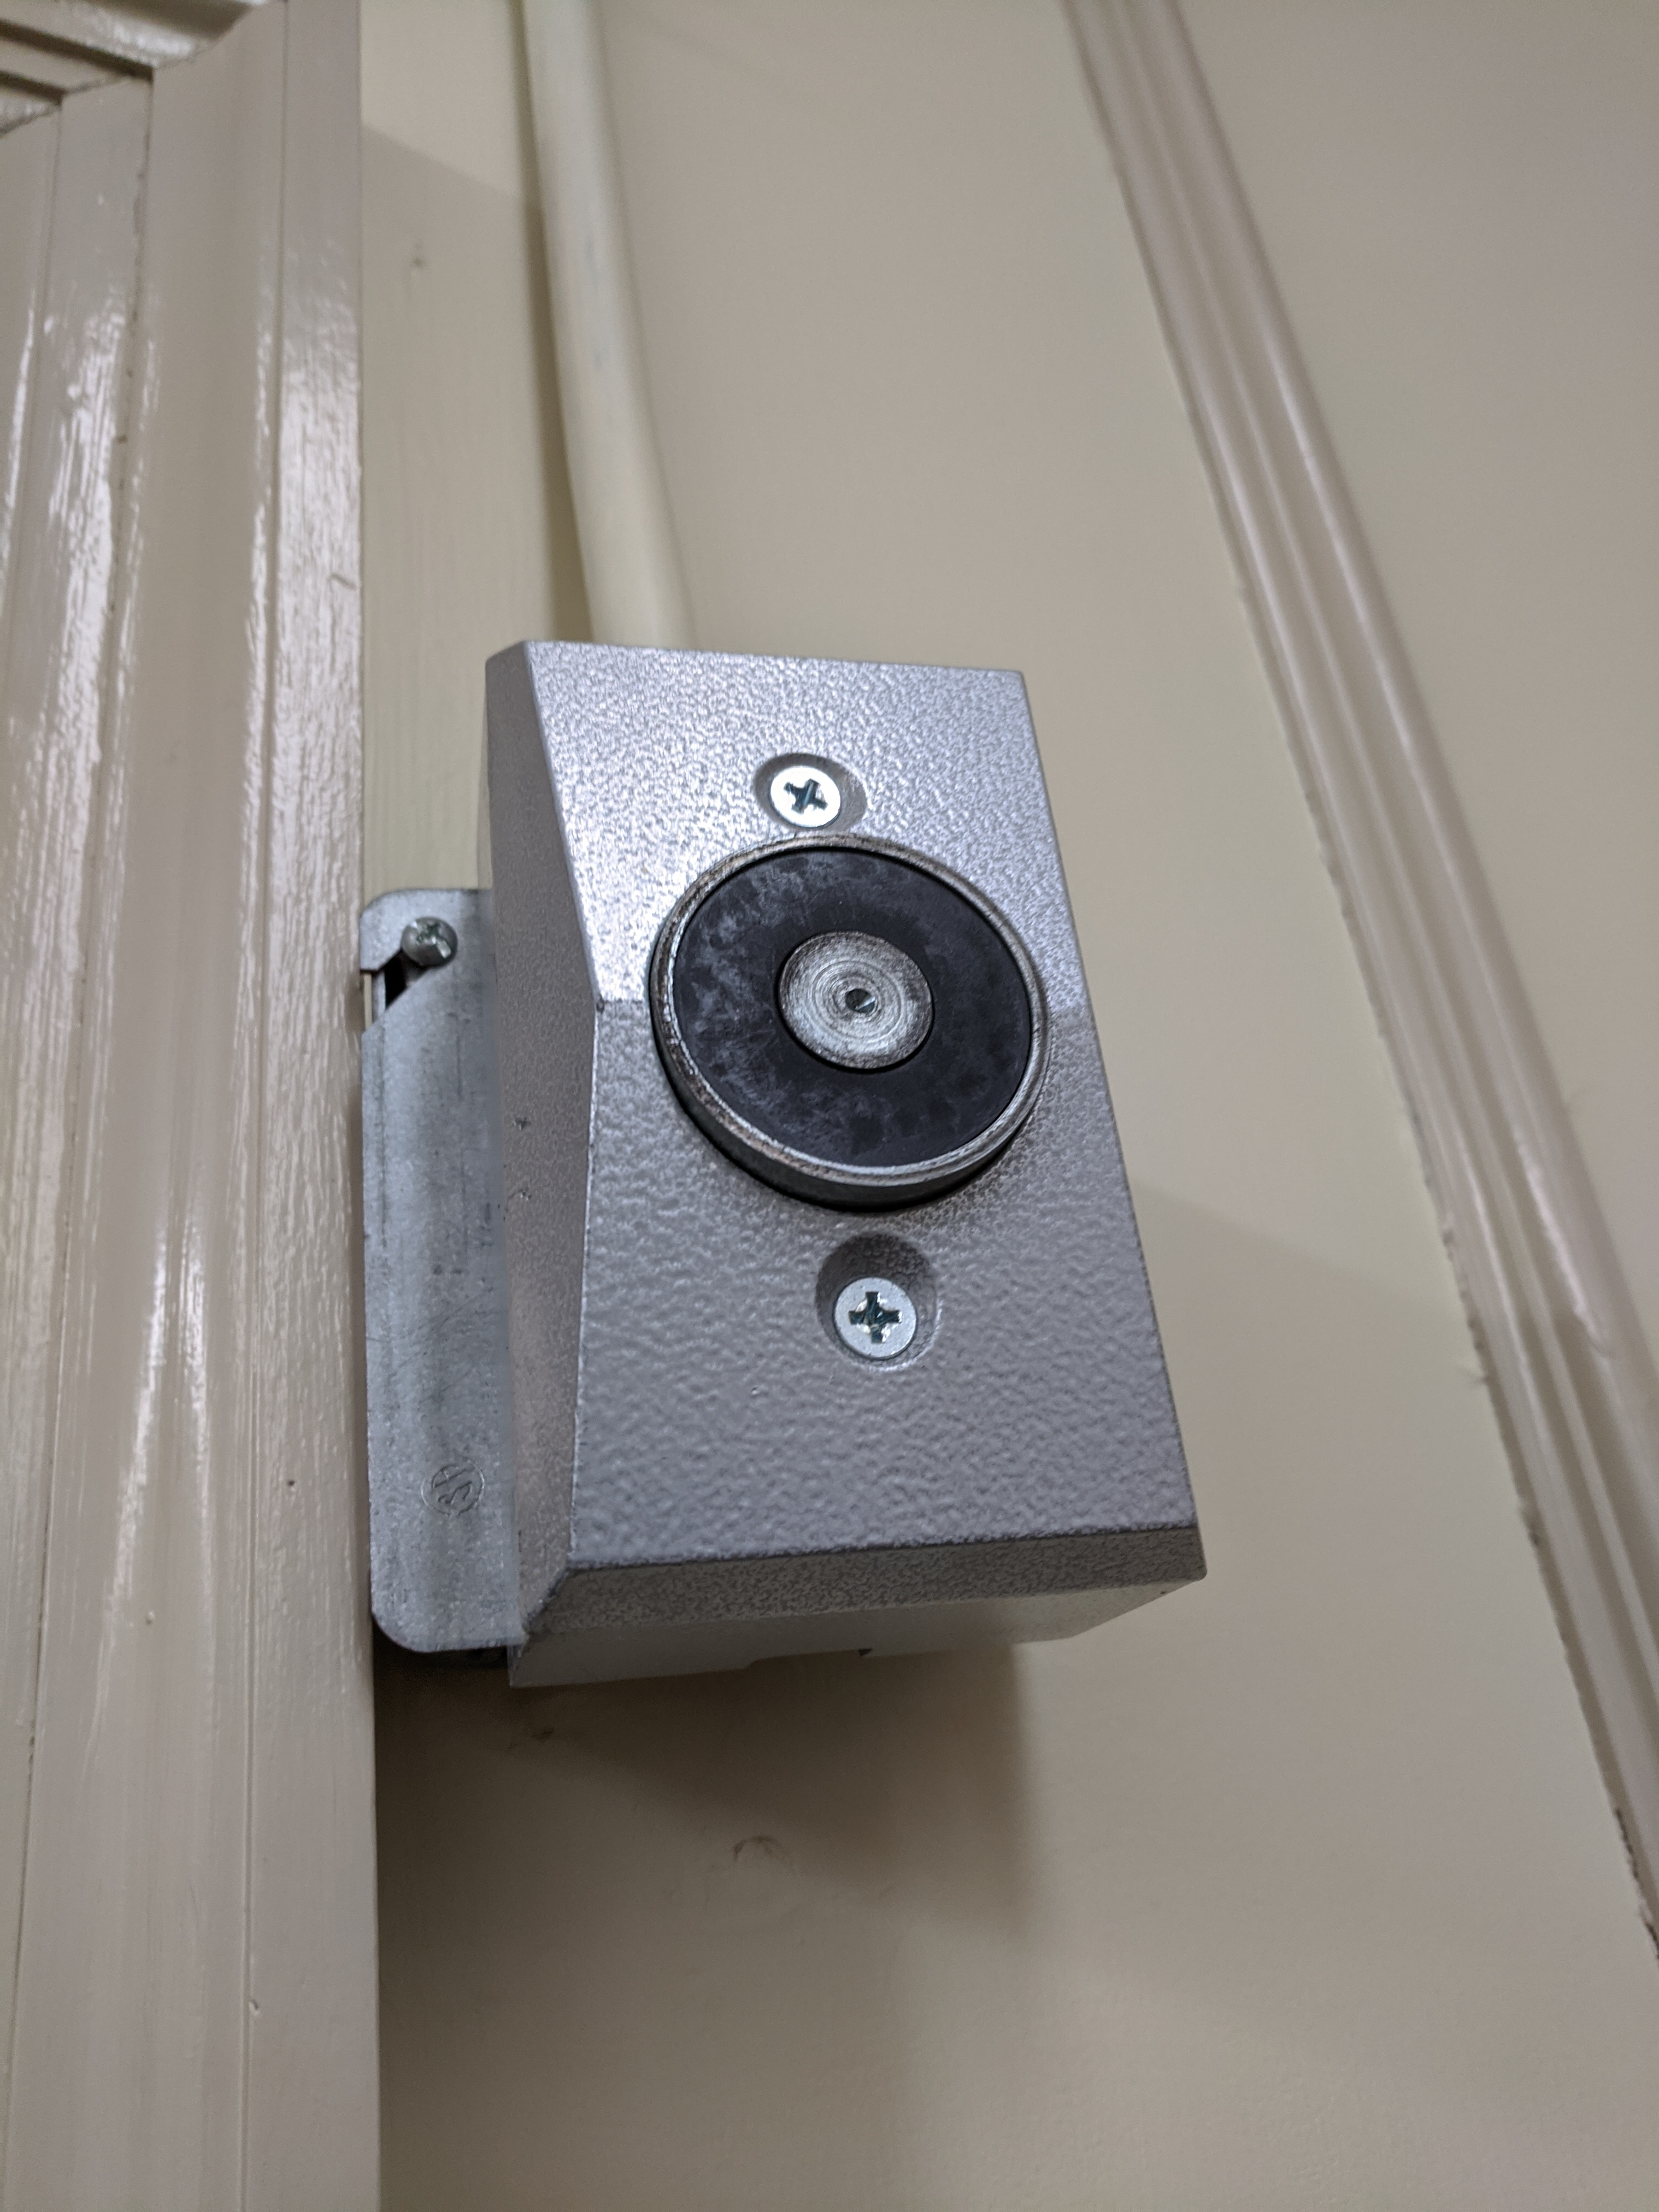cross_recessed_screw: (814, 1251, 938, 1367), (748, 751, 852, 831), (394, 899, 467, 972)
